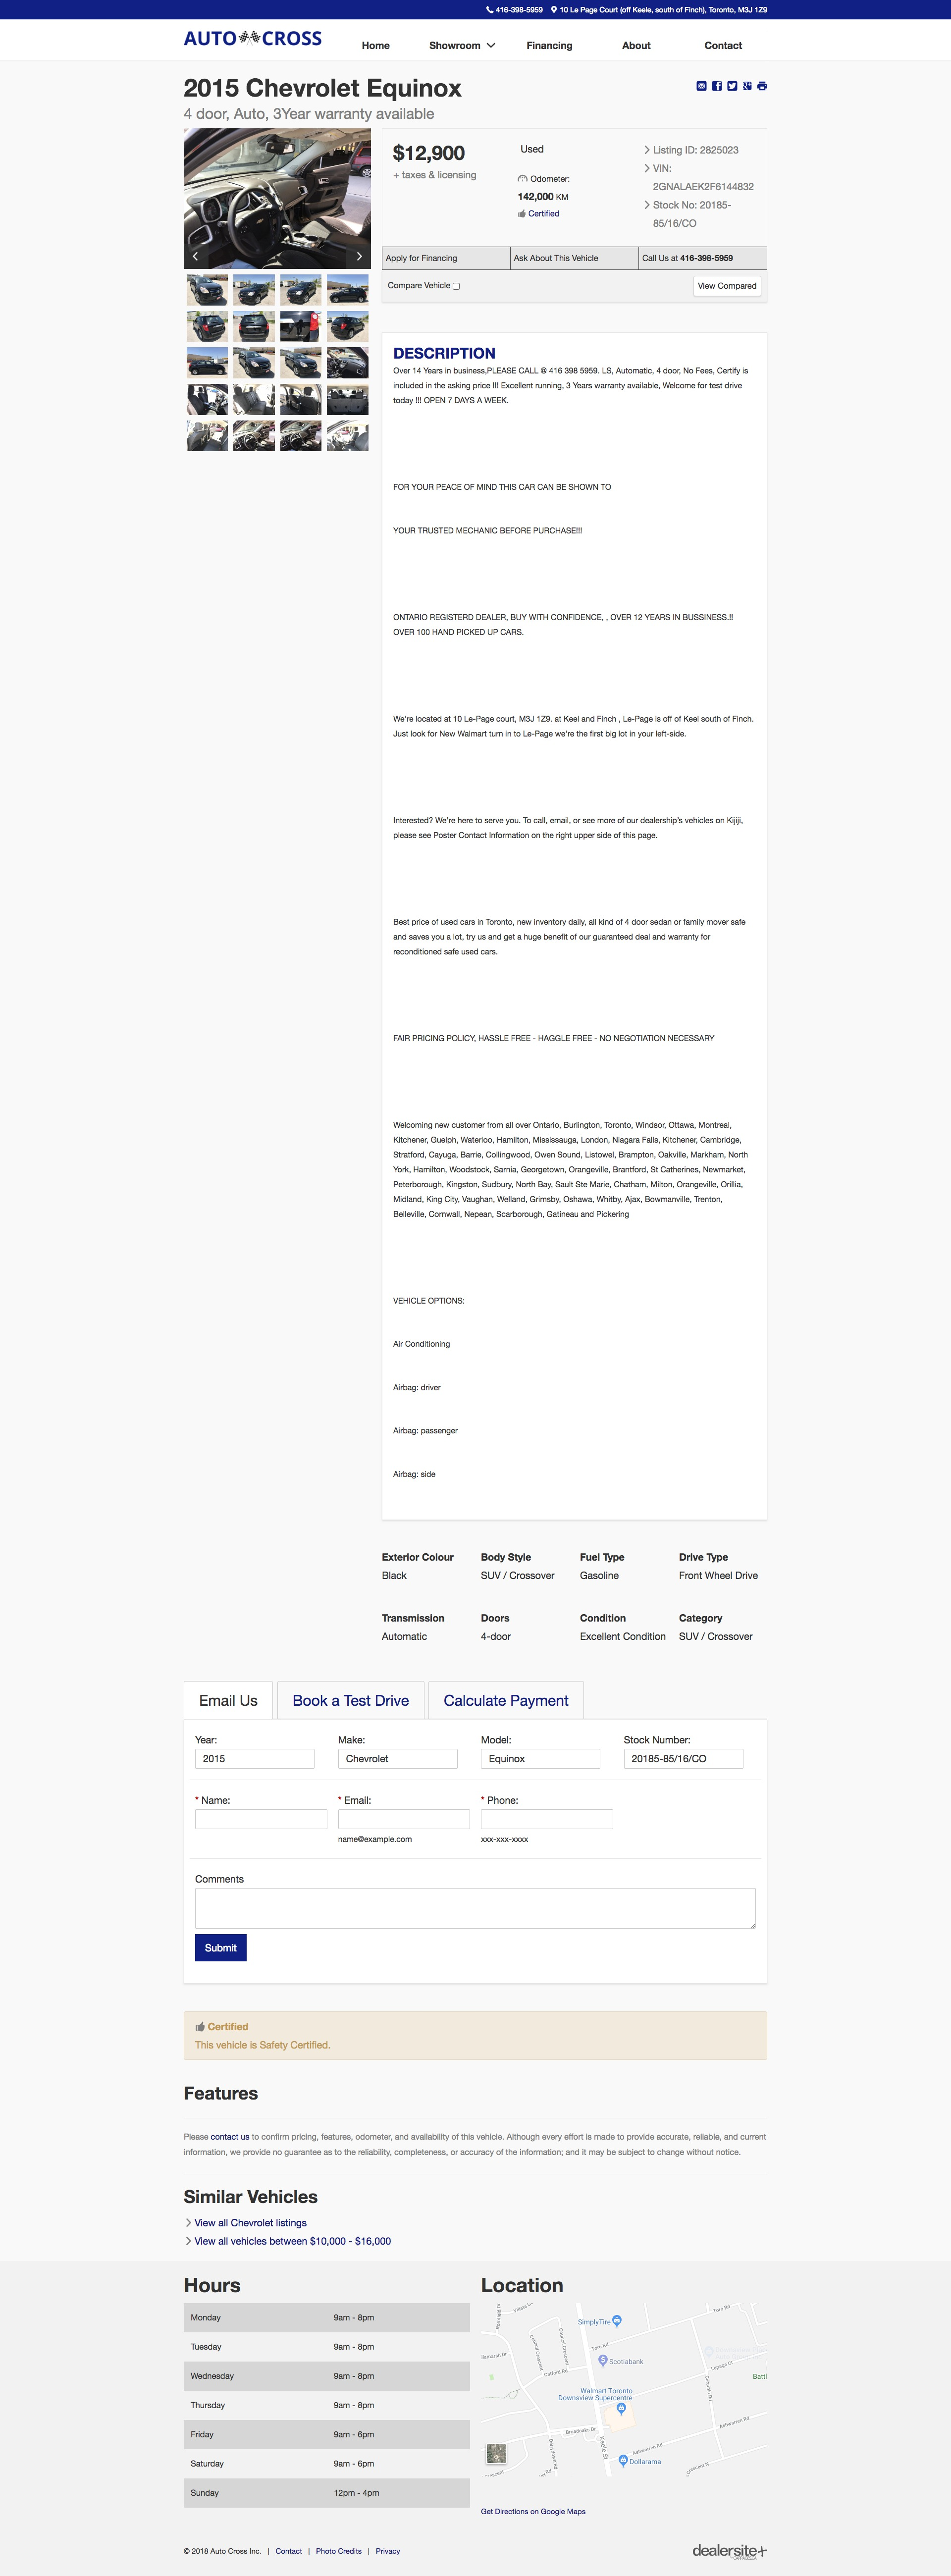car: (345, 245, 373, 271)
